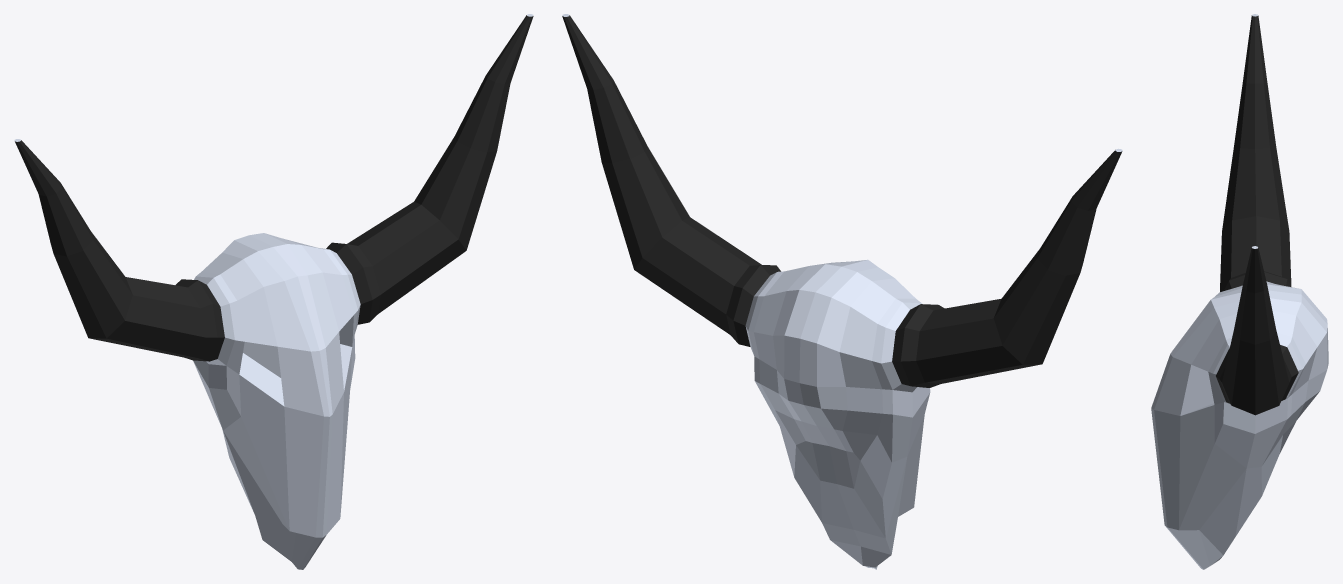
File: Skull.fbx
The picture shows the model from 3 angles, left to right: view 1: azimuth 30°, elevation 25°; view 2: azimuth 150°, elevation 25°; view 3: azimuth 270°, elevation 25°; orthographic projection. The views are drawn at different scales.
Visible parts, largest first — view 1: Skull; view 2: Skull; view 3: Skull.
Boxes of the visible parts, x1,y1,x2,y2 form: Skull: (14,14,533,569); Skull: (562,14,1122,569); Skull: (1151,14,1328,569).
Size of the model in its own units: 175 by 152 by 55.99.
